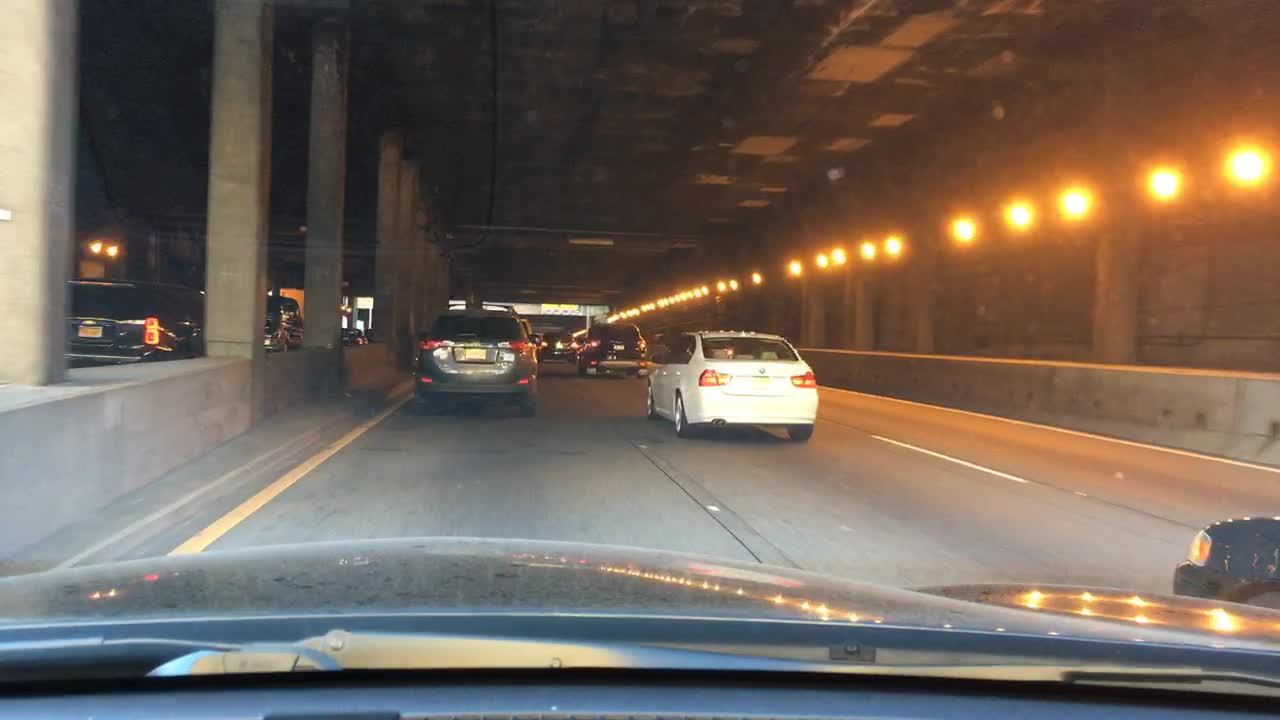car: (645, 326, 819, 435), (411, 302, 540, 418), (62, 275, 203, 363), (1170, 513, 1277, 615), (575, 322, 649, 381), (261, 294, 302, 352), (551, 333, 577, 359), (645, 329, 667, 359), (340, 325, 367, 346), (531, 329, 546, 350)
